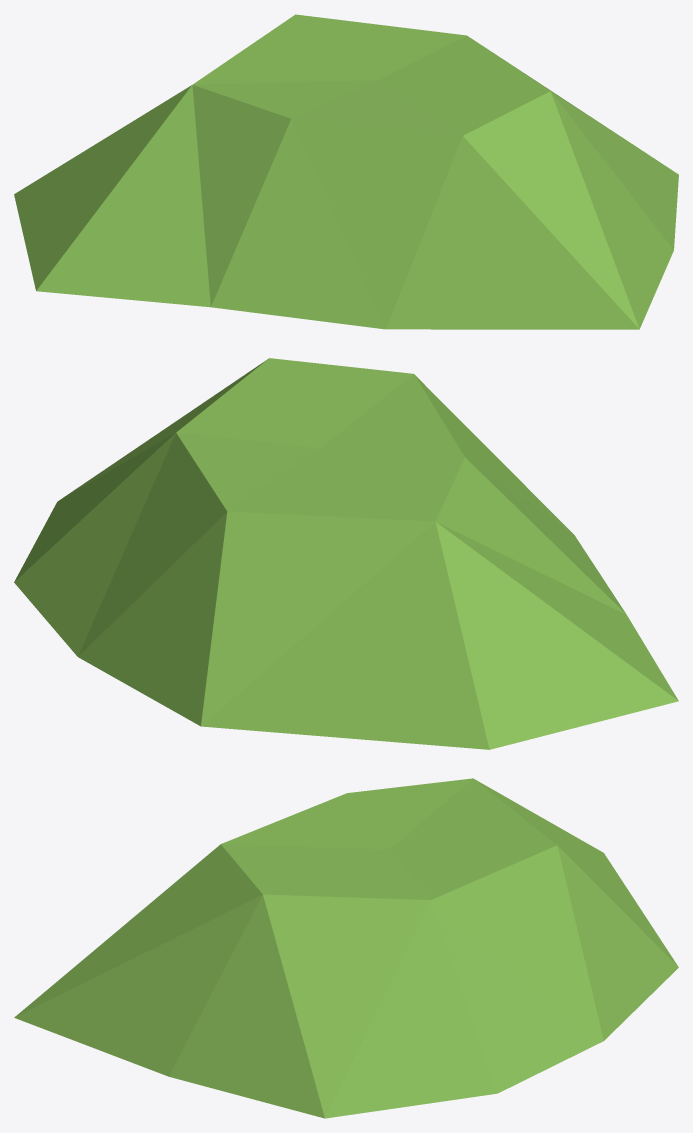
Rendered from MT_Mountain_S_b_03.fbx.
3 views of the same model, one above another, from view 1: azimuth 30°, elevation 25°; view 2: azimuth 150°, elevation 25°; view 3: azimuth 270°, elevation 25° (orthographic). The views are drawn at different scales.
Visible parts, largest first — view 1: MT_Mountain_S_b_03; view 2: MT_Mountain_S_b_03; view 3: MT_Mountain_S_b_03.
Part boxes in pixels (left/top/right/bottom): MT_Mountain_S_b_03: left=14, top=14, right=678, bottom=329; MT_Mountain_S_b_03: left=14, top=358, right=678, bottom=749; MT_Mountain_S_b_03: left=14, top=778, right=678, bottom=1118.
Bounding box in the file's own units: 1295 × 302 × 1235.
